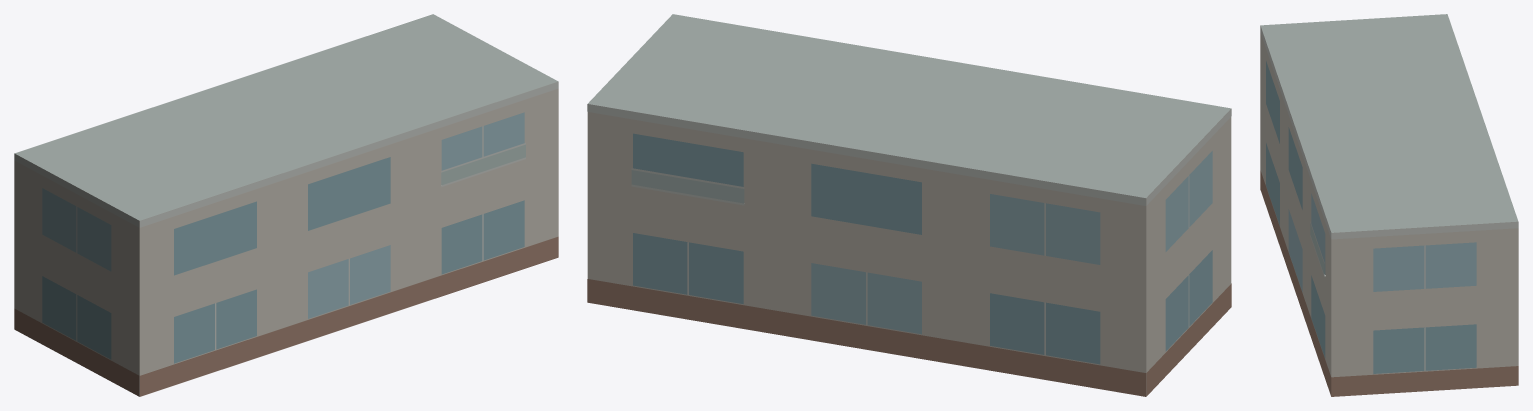
The model's file is survey-upis-32807611.glb.
3 views of the same model, side by side, from view 1: azimuth 30°, elevation 25°; view 2: azimuth 150°, elevation 25°; view 3: azimuth 270°, elevation 25° (orthographic). The views are drawn at different scales.
Parts seen in each view (by area): view 1: survey-upis-32807611.tmp; view 2: survey-upis-32807611.tmp; view 3: survey-upis-32807611.tmp.
Boxes of the visible parts, left/top/right/bottom form: survey-upis-32807611.tmp: left=14, top=14, right=558, bottom=396; survey-upis-32807611.tmp: left=587, top=14, right=1231, bottom=396; survey-upis-32807611.tmp: left=1260, top=14, right=1518, bottom=396.
Bounding box in the file's own units: 17.48 × 6.1 × 8.71.
